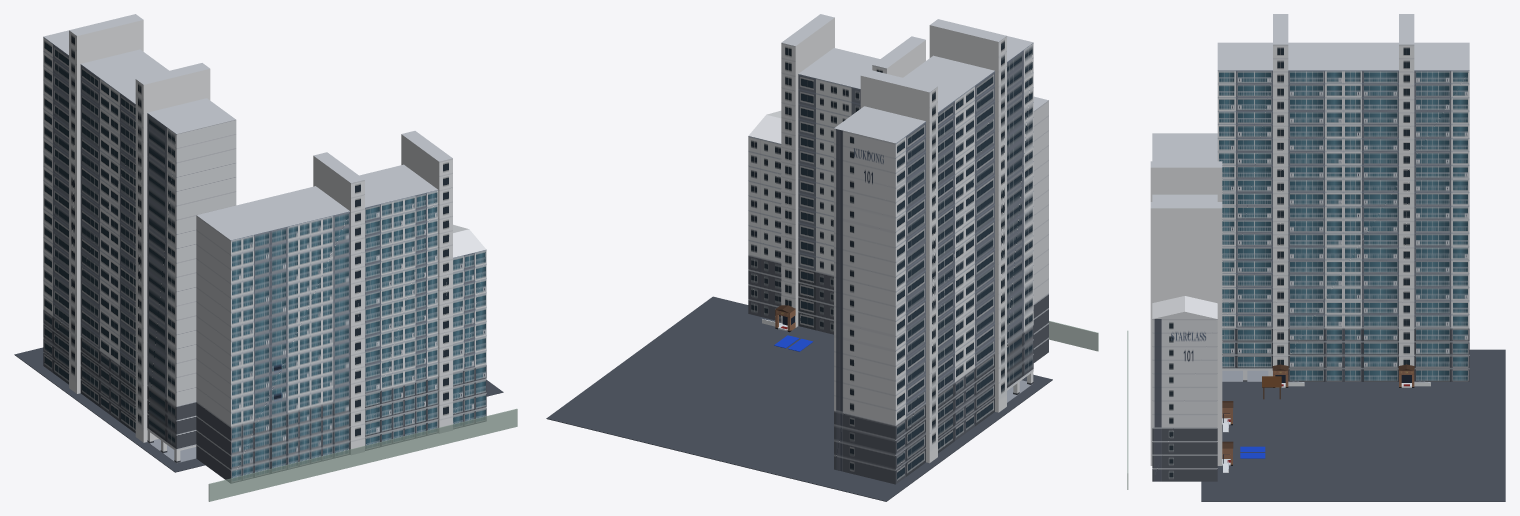
The model's file is place_극미101.glb.
3 views of the same model, side by side, from view 1: azimuth 30°, elevation 25°; view 2: azimuth 150°, elevation 25°; view 3: azimuth 270°, elevation 25° (orthographic). The views are drawn at different scales.
Visible parts, largest first — view 1: KukdongMiraju_101, Line7_CornerPilotis_1F; view 2: KukdongMiraju_101; view 3: KukdongMiraju_101, Line7_CornerPilotis_1F.
Part boxes in pixels (x1,y1,x2,y2): KukdongMiraju_101: (14, 14, 517, 501); Line7_CornerPilotis_1F: (147, 428, 196, 463); KukdongMiraju_101: (546, 14, 1098, 501); KukdongMiraju_101: (1127, 14, 1505, 501); Line7_CornerPilotis_1F: (1222, 368, 1272, 381).
Bounding box in the file's own units: 67 × 68.85 × 69.59.
Materials: 72 (22 with a texture image).
